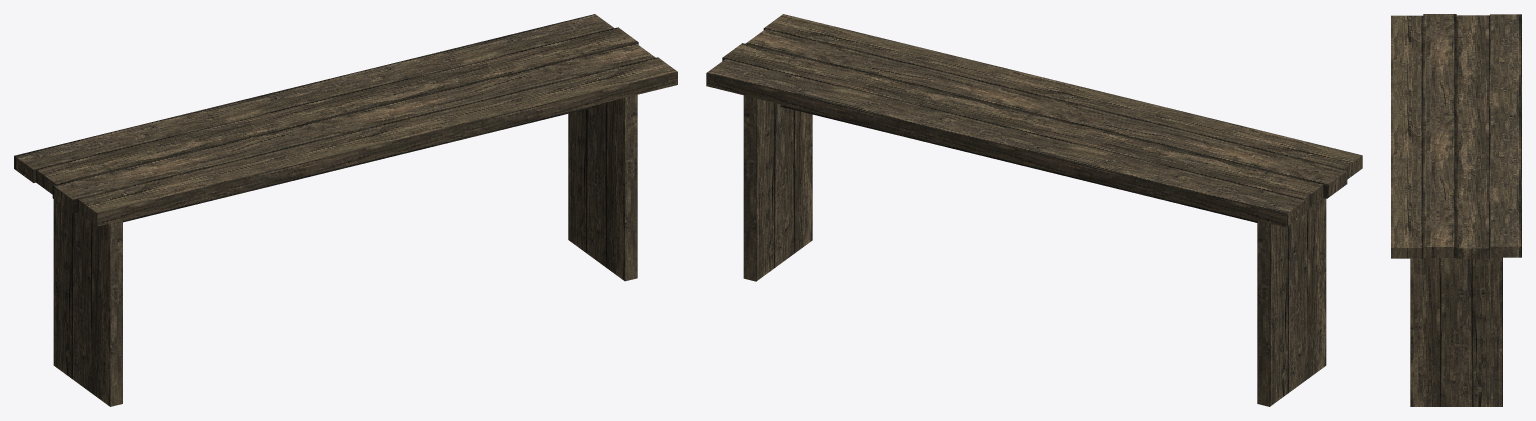
Rendered from bench_mx_1_1.glb.
3 renders of one model, left to right at view 1: azimuth 30°, elevation 25°; view 2: azimuth 150°, elevation 25°; view 3: azimuth 270°, elevation 25°, orthographic. The views are drawn at different scales.
Parts seen in each view (by area): view 1: bench_mx_1_1; view 2: bench_mx_1_1; view 3: bench_mx_1_1.
Part boxes in pixels (x1,y1,x2,y2): bench_mx_1_1: [14, 14, 677, 406]; bench_mx_1_1: [706, 14, 1362, 406]; bench_mx_1_1: [1391, 14, 1521, 406].
Bounding box in the file's own units: 1.86 × 0.63 × 0.438.
1 material, 1 textured.
